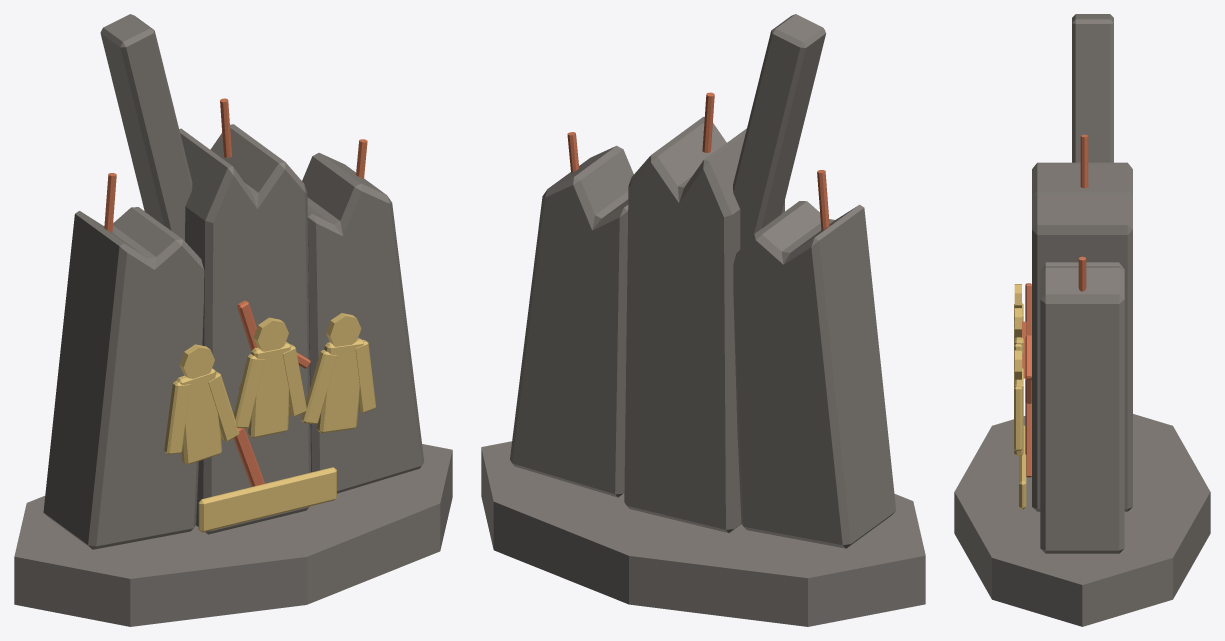
Rendered from memorial-9-novembro-v1.glb.
3 renders of one model, left to right at view 1: azimuth 30°, elevation 25°; view 2: azimuth 150°, elevation 25°; view 3: azimuth 270°, elevation 25°, orthographic. The views are drawn at different scales.
Visible parts, largest first — view 1: Memorial_Structure, Memorial_Plaque_Three_Workers, Memorial_Fracture_And_Rebar; view 2: Memorial_Structure, Memorial_Fracture_And_Rebar; view 3: Memorial_Structure, Memorial_Fracture_And_Rebar, Memorial_Plaque_Three_Workers.
Boxes of the visible parts, x1,y1,x2,y2 form: Memorial_Structure: (14,14,452,626); Memorial_Plaque_Three_Workers: (164,313,375,532); Memorial_Fracture_And_Rebar: (104,98,367,486); Memorial_Structure: (481,14,925,626); Memorial_Fracture_And_Rebar: (567,92,829,231); Memorial_Structure: (954,14,1210,626); Memorial_Fracture_And_Rebar: (1022,134,1088,477); Memorial_Plaque_Three_Workers: (1014,284,1026,509).
Bounding box in the file's own units: 2.1 × 2.51 × 1.22.
